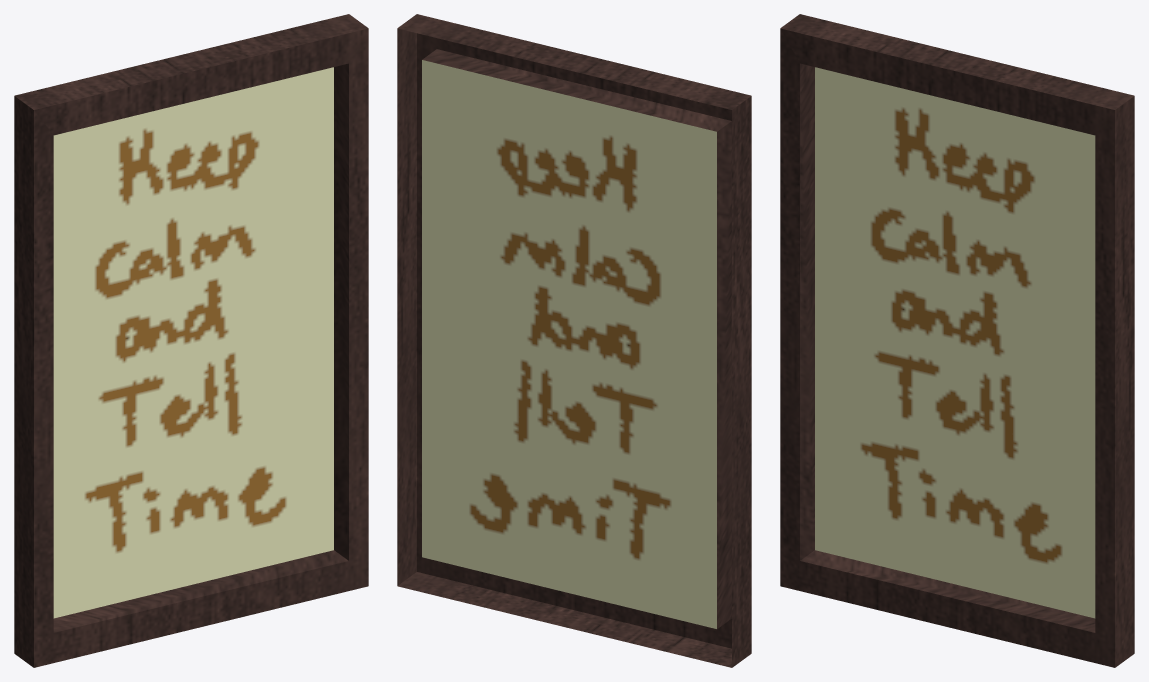
File: poster 2.fbx
The picture shows the model from 3 angles, left to right: view 1: azimuth 30°, elevation 25°; view 2: azimuth 150°, elevation 25°; view 3: azimuth 330°, elevation 25°; orthographic projection.
Parts seen in each view (by area): view 1: poster 1.001; view 2: poster 1.001; view 3: poster 1.001.
Boxes of the visible parts, x1,y1,x2,y2 form: poster 1.001: (14,14,368,667); poster 1.001: (397,14,751,667); poster 1.001: (780,14,1134,667).
Size of the model in its own units: 112 by 178 by 11.39.
